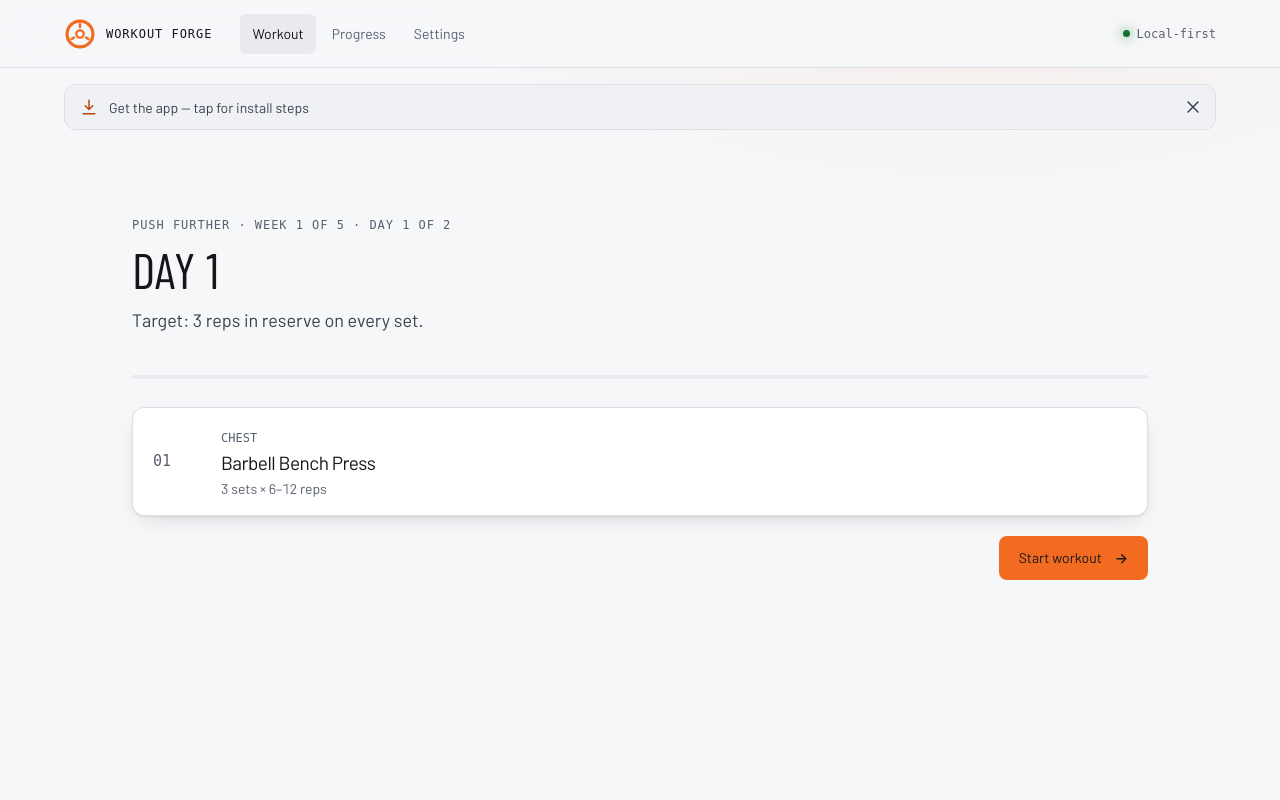
Test: install banner › stays away on Today after backing out of an unfinished session (stored min)
Expected: the button "Get the app — tap for install steps" is shown, x1=69 y1=85 x2=1171 y2=129
Click the button "Start workout →" at (1073, 558), box x1=999 y1=536 x2=1148 y2=580
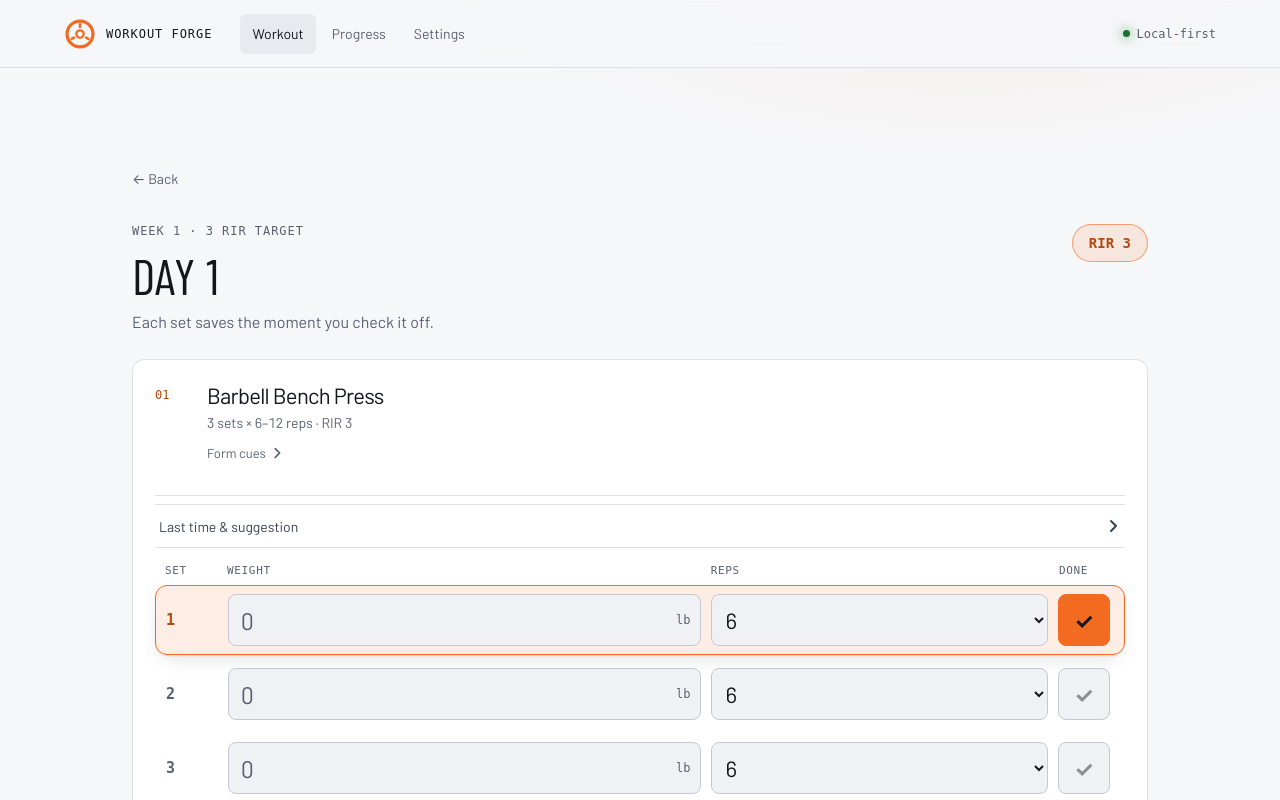
Click the button "← Back" at (155, 178), box x1=132 y1=156 x2=178 y2=200
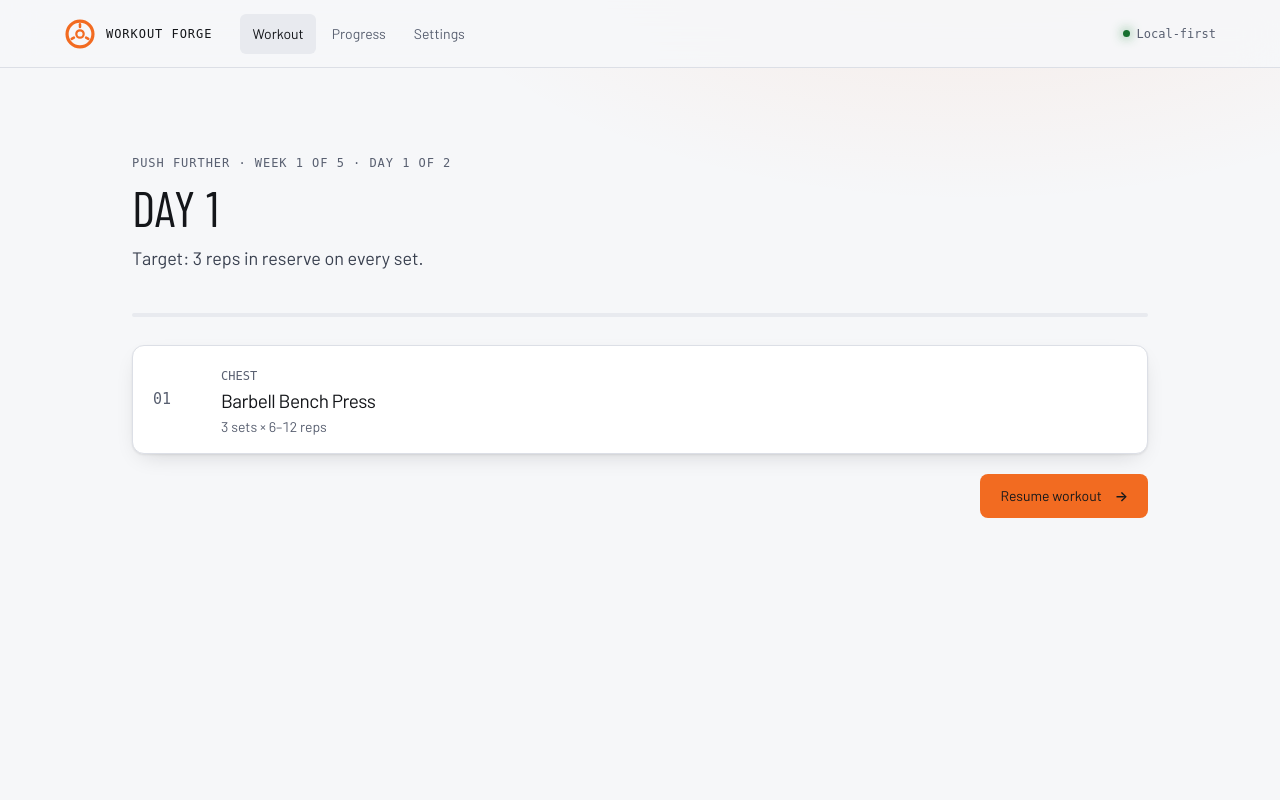
Expected: the button "Get the app — tap for install steps" is not shown
Expected: the button "Resume workout →" is shown, x1=980 y1=474 x2=1148 y2=518
